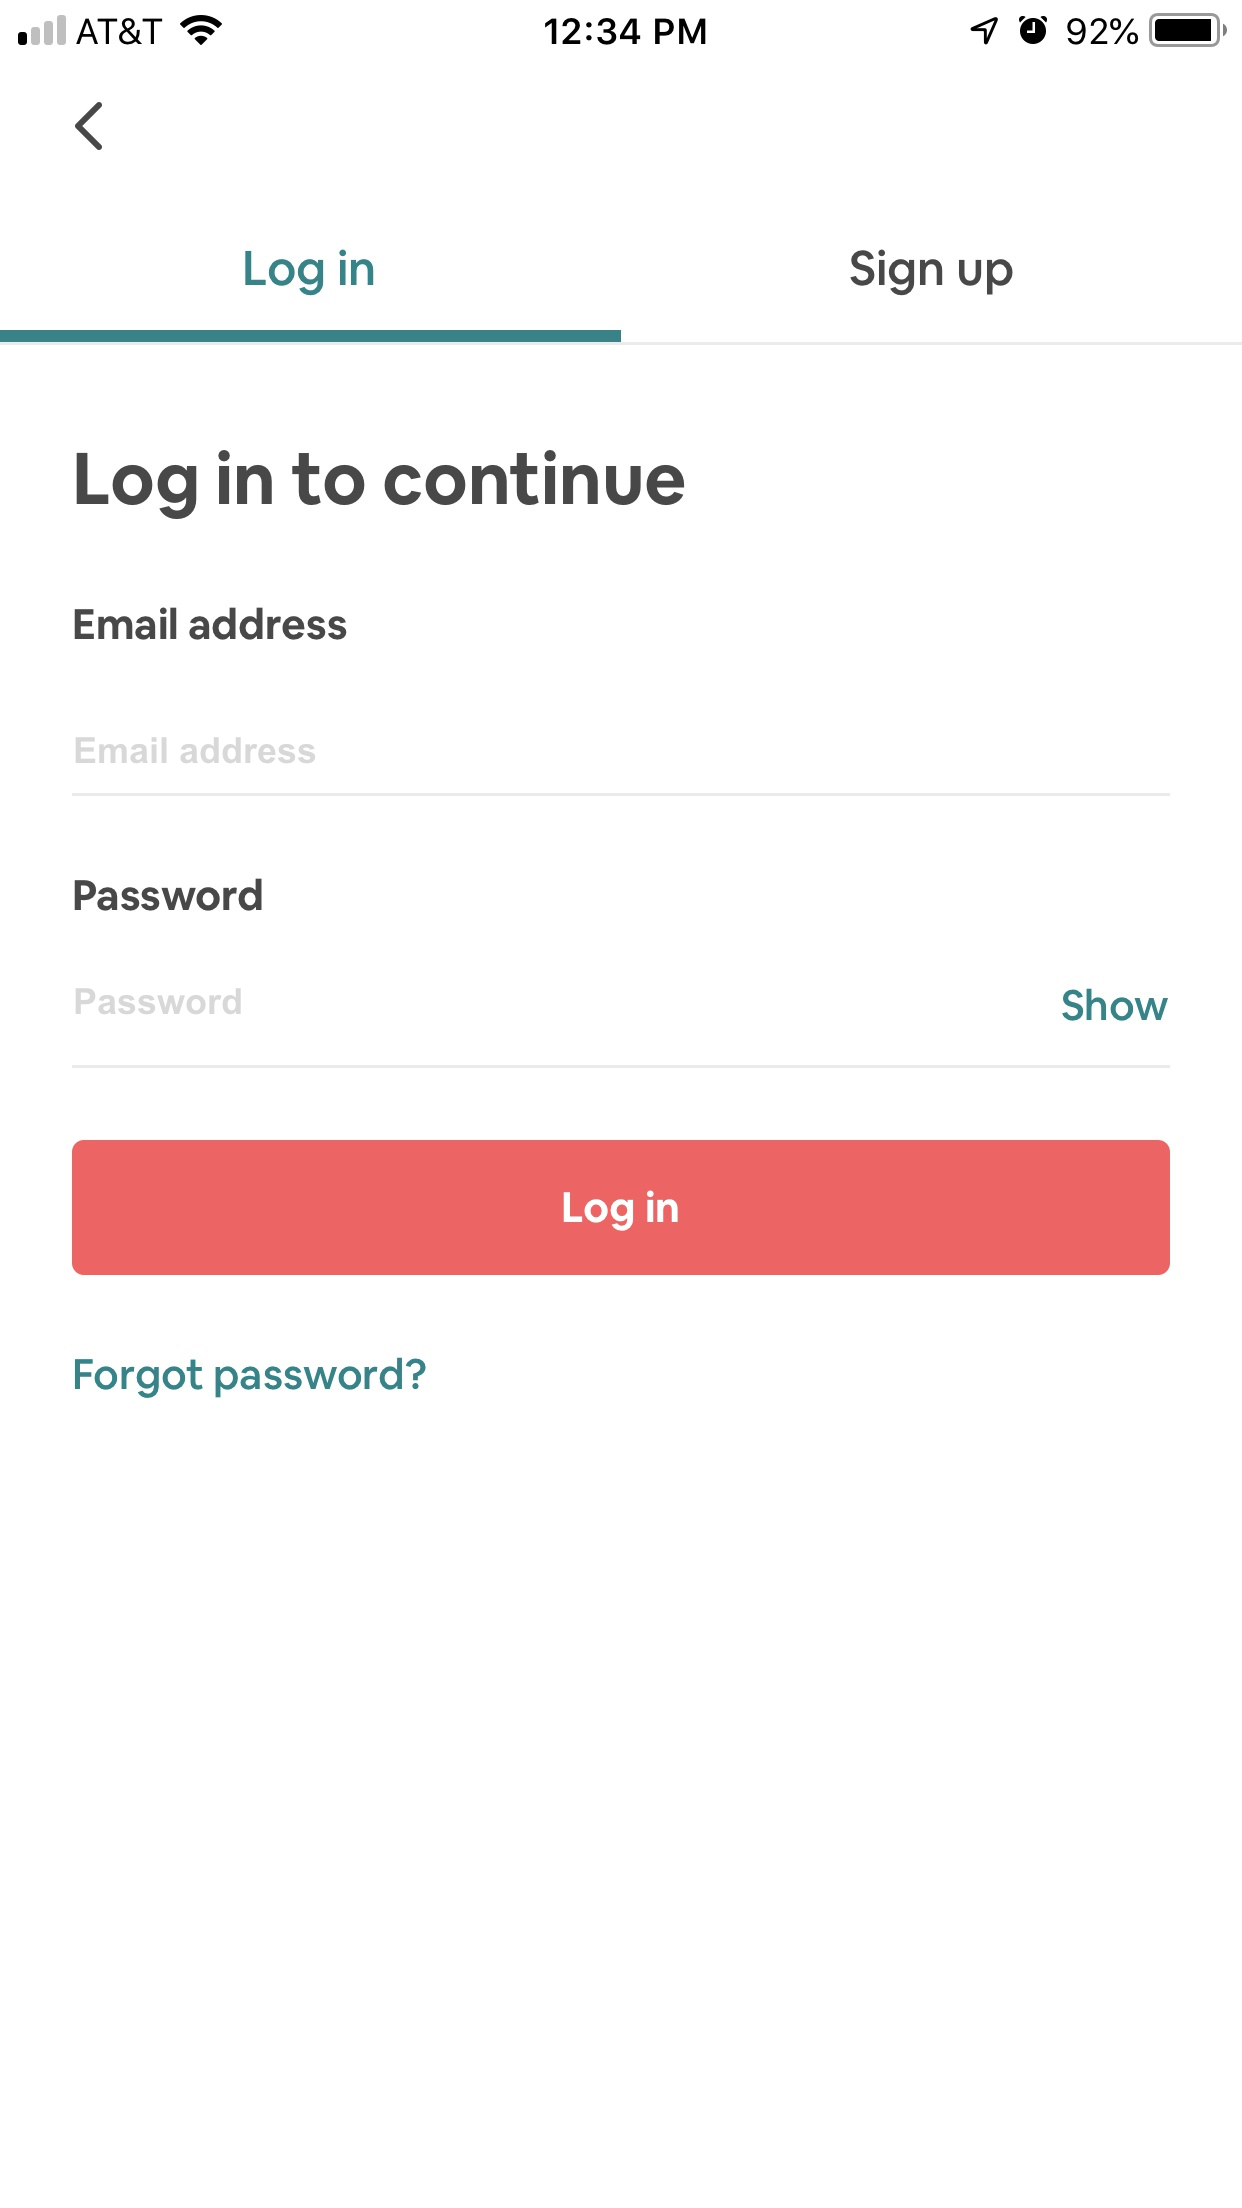EditText: (71, 987, 1171, 1069), (71, 735, 1171, 798)
Icon: (74, 102, 105, 152)
Text: (76, 450, 685, 522), (74, 1357, 428, 1400), (74, 607, 347, 641), (851, 249, 1015, 297), (74, 737, 317, 764), (74, 878, 264, 911), (246, 249, 375, 297), (74, 987, 244, 1018), (1062, 989, 1169, 1022)
TextButton: (73, 1140, 1171, 1275)
UpperTaskBar: (2, 2, 1242, 49)
